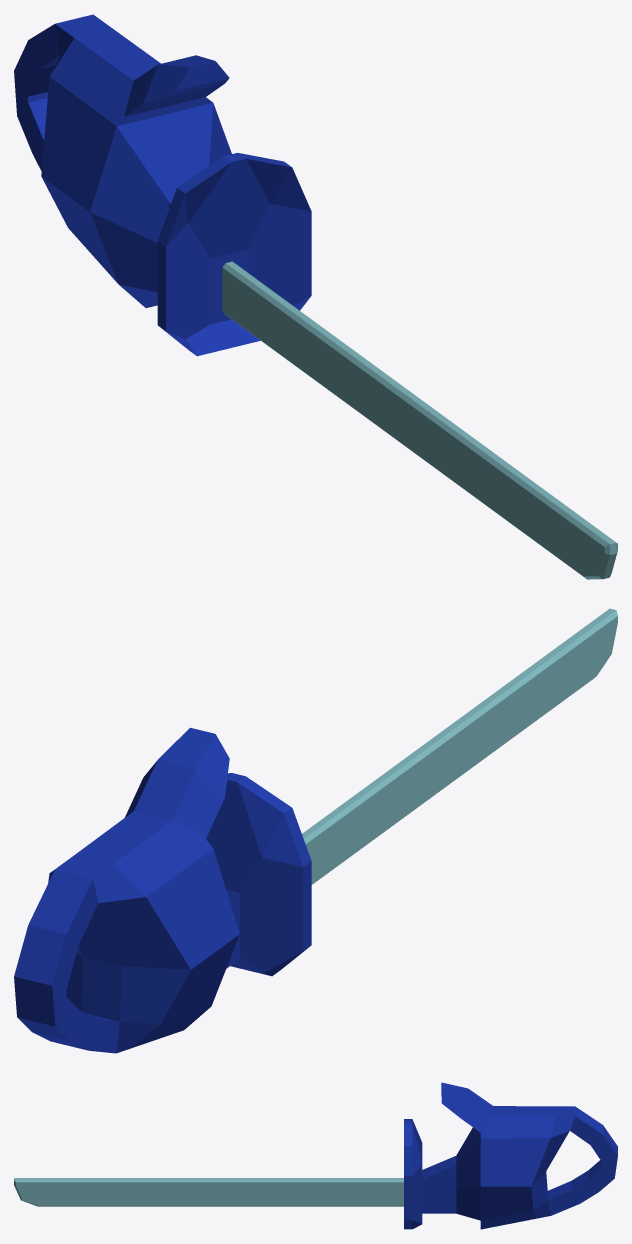
File: treeCutter.fbx
3 renders of one model, top to bottom at view 1: azimuth 30°, elevation 25°; view 2: azimuth 150°, elevation 25°; view 3: azimuth 270°, elevation 25°, orthographic. The views are drawn at different scales.
Visible parts, largest first — view 1: TreeCutter; view 2: TreeCutter; view 3: TreeCutter.
Part boxes in pixels (<box>): TreeCutter: <box>14,14,617,579</box>; TreeCutter: <box>14,608,617,1053</box>; TreeCutter: <box>14,1082,617,1229</box>.
Bounding box in the file's own units: 13.44 × 22.91 × 90.17.
